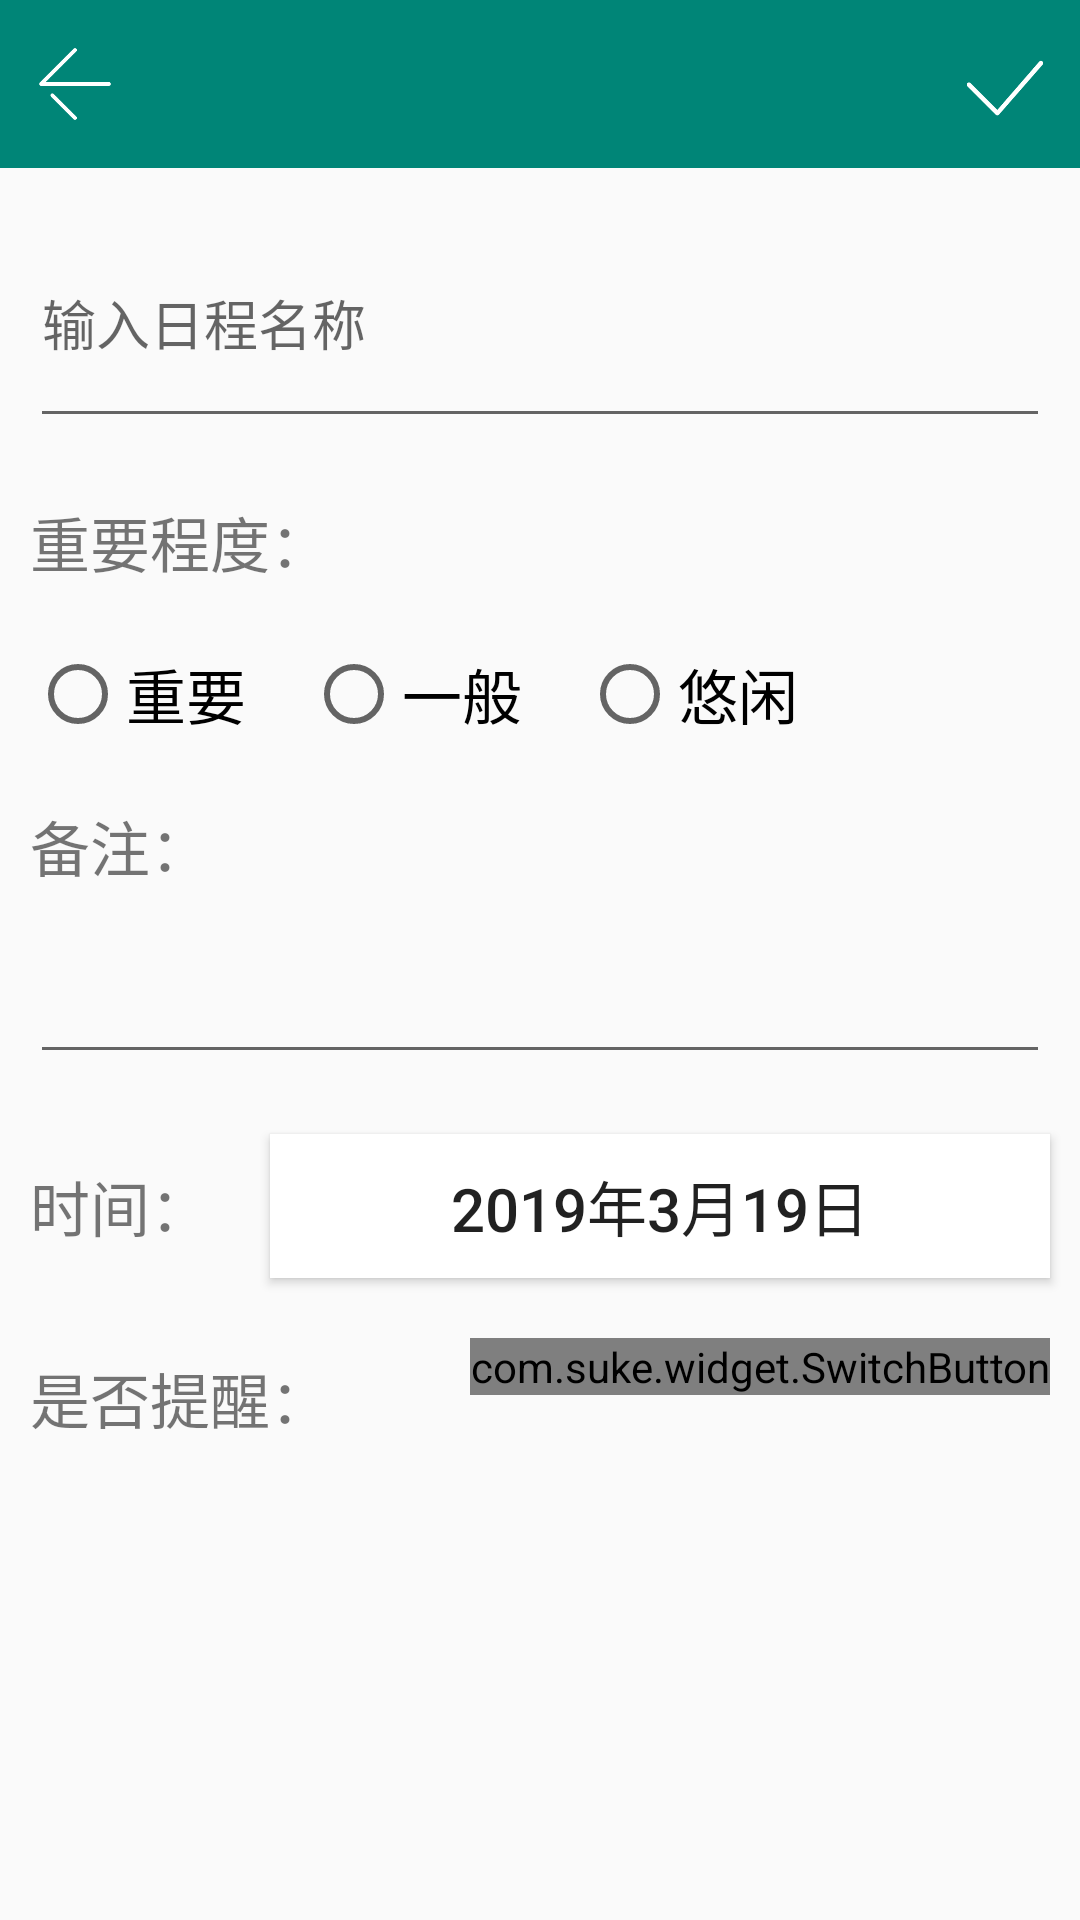

Screen size 1080×1920. Icon name, then its box in pixels as (x1, y1, x2, y2):
back: (39, 48, 111, 120)
done: (967, 61, 1043, 116)
